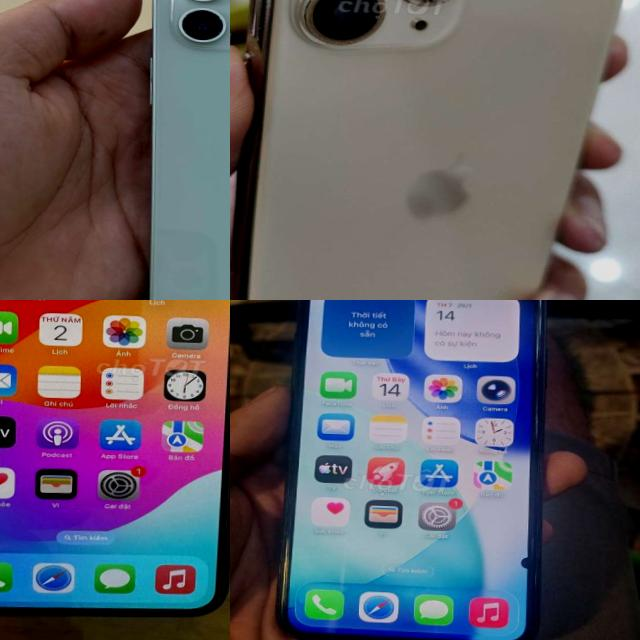screen_defect: (516, 546, 548, 582)
